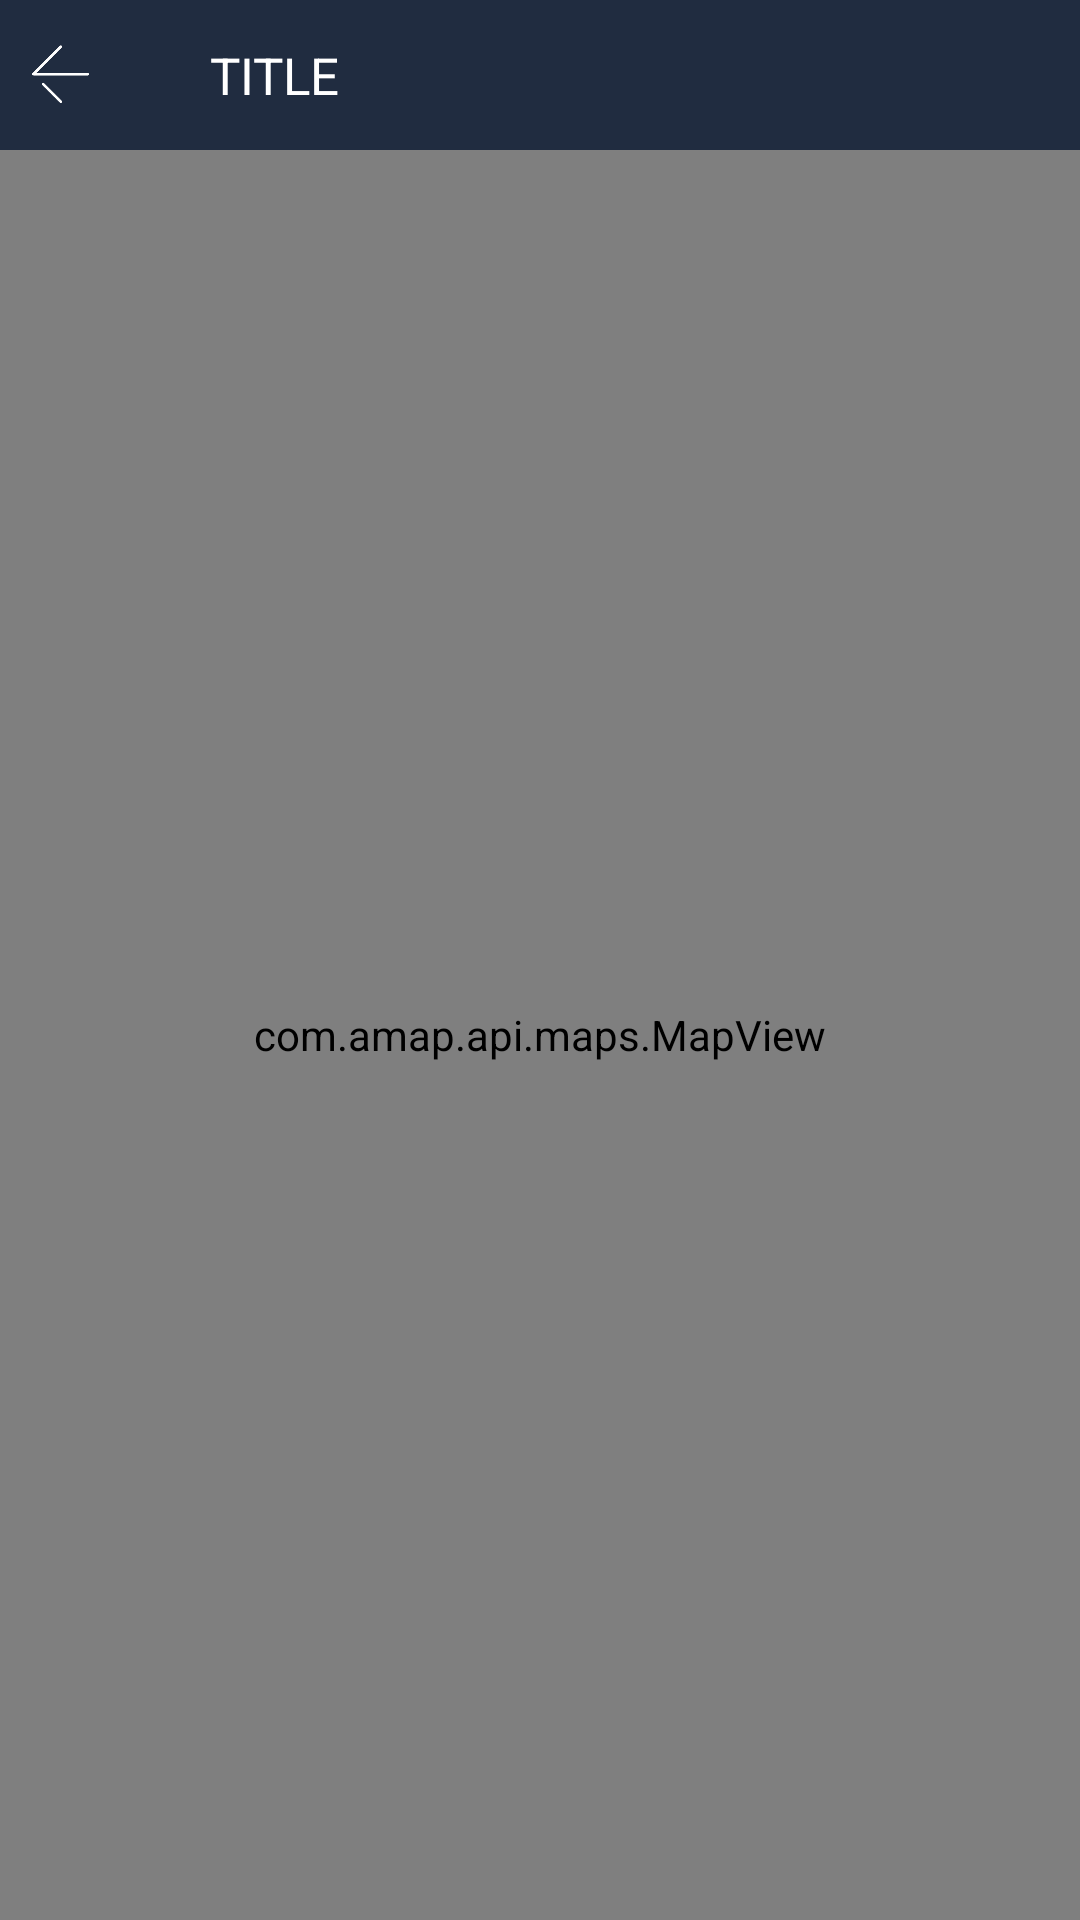

Icons on this 1080x1920 Android screen, each with the point to tap as (x=x, y=y):
back: (x=60, y=74)
